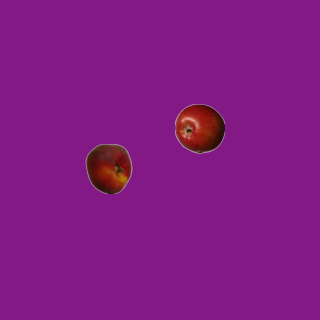Apple Braeburn: (174, 103, 224, 153)
Nectarine Flat: (83, 143, 133, 193)
